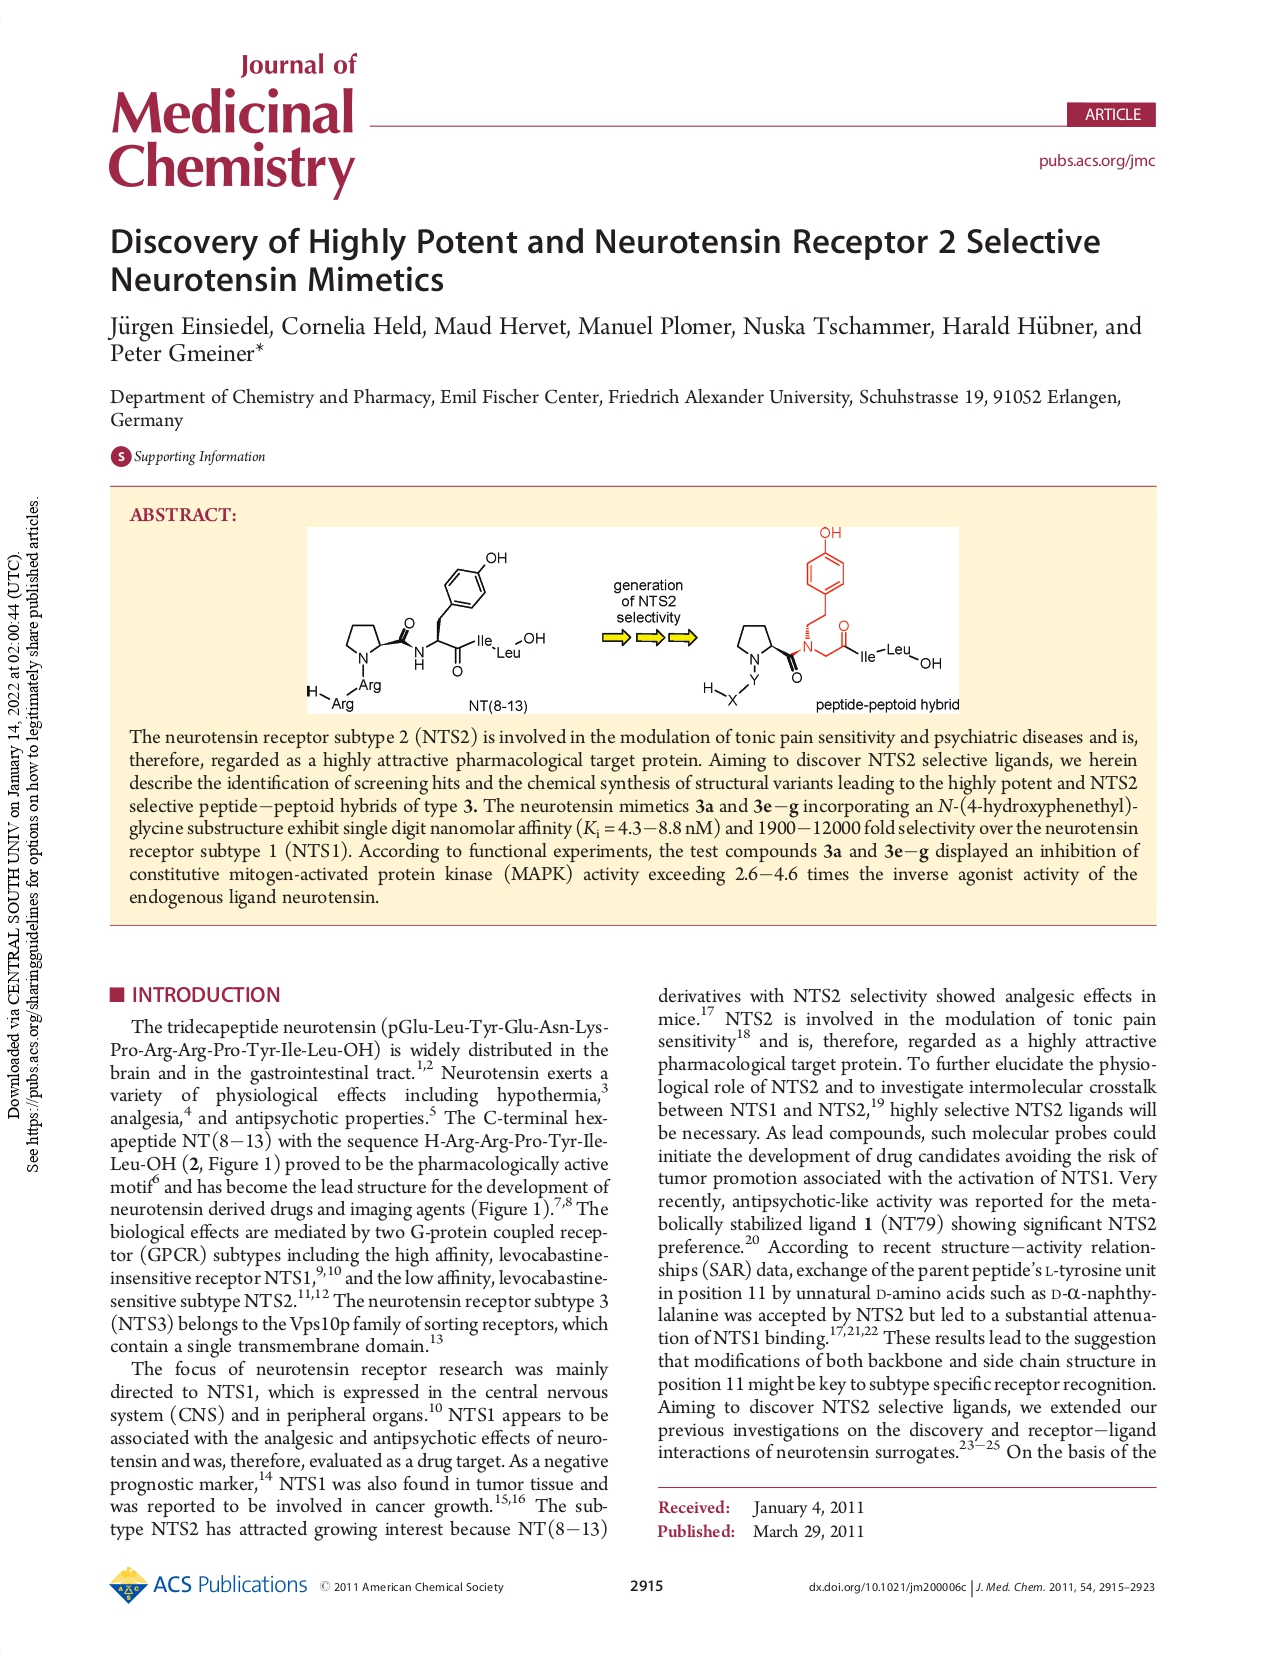exist_molecular: (699, 525, 946, 706), (305, 548, 545, 711)
